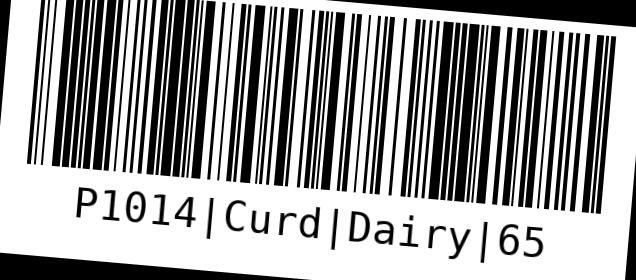milk: (15, 0, 627, 279)
